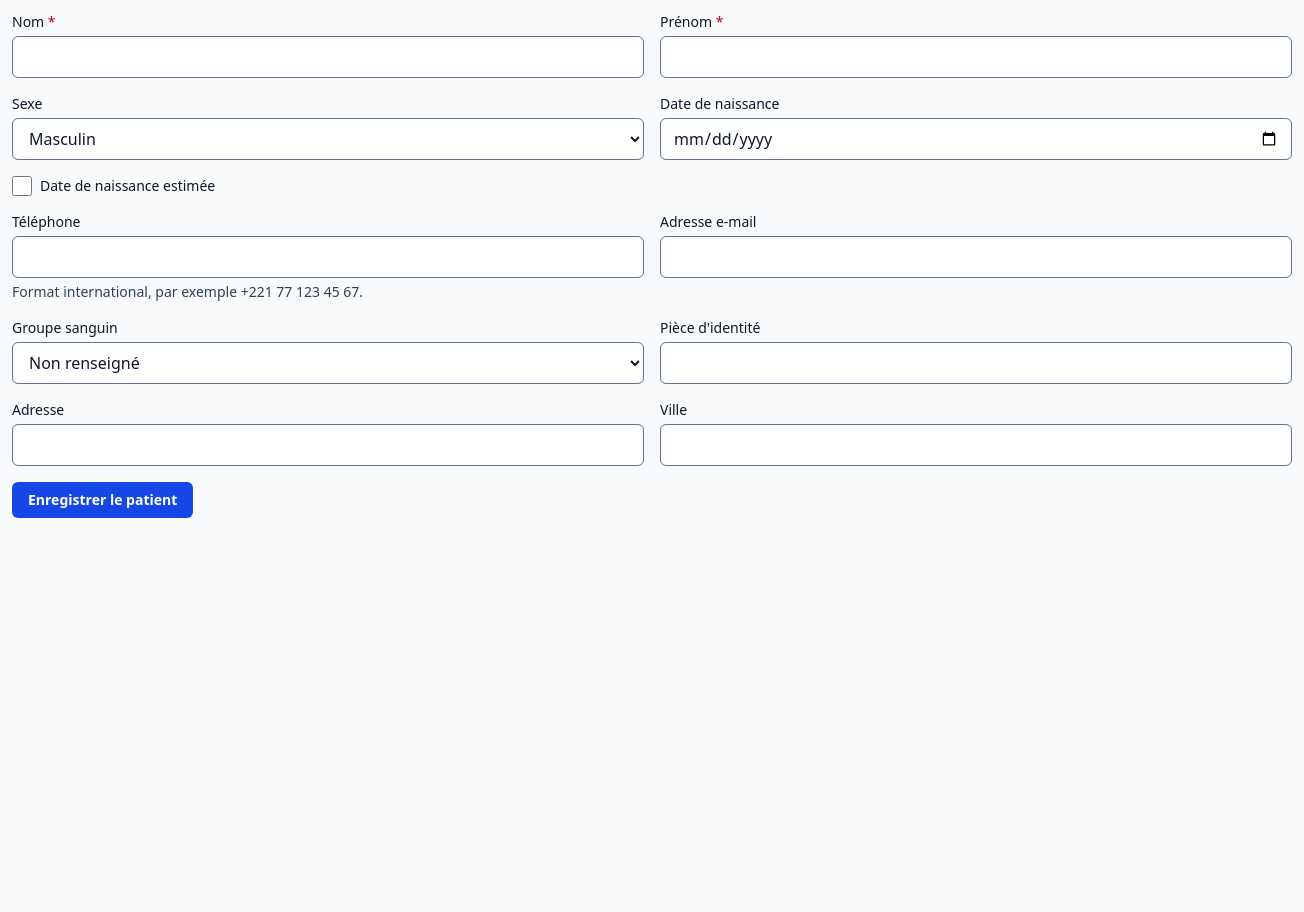
Test: PatientForm › liste les dossiers candidats lors d'un doublon suspecté (409)
Click the button "Enregistrer le patient". click: (103, 500)
box: [12,482,193,518]
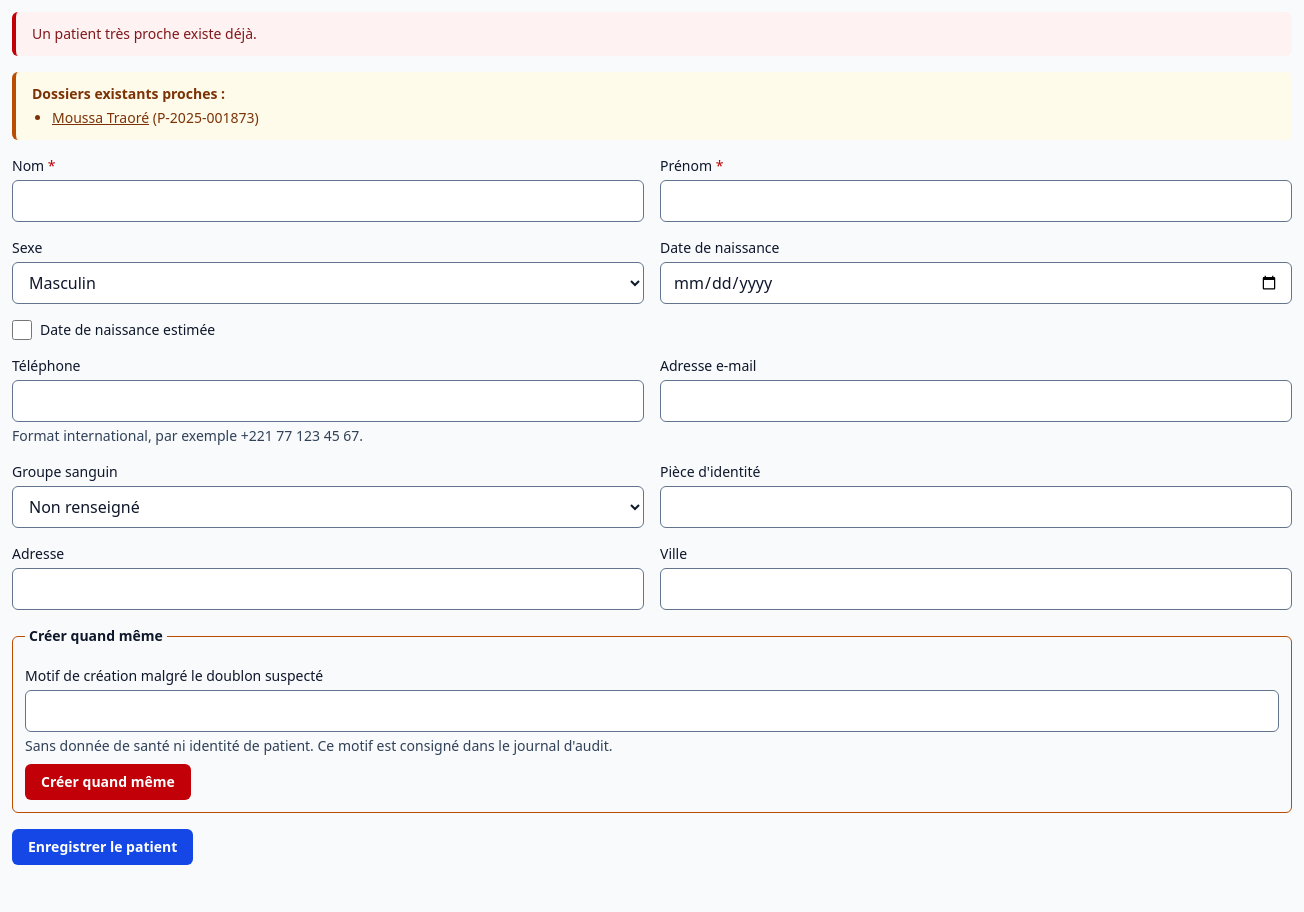
Expected: the list item "Moussa Traoré (P-2025-001873)" is shown, [52,108,259,127]
